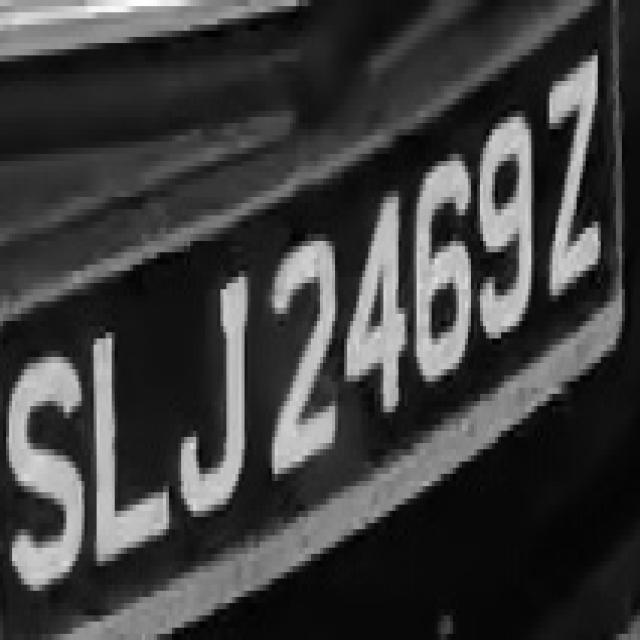2: (254, 228, 344, 486)
4: (335, 178, 411, 456)
6: (408, 142, 474, 418)
9: (462, 117, 543, 363)
J: (175, 258, 254, 542)
L: (85, 296, 178, 578)
S: (6, 320, 85, 634)
Z: (543, 25, 610, 302)
